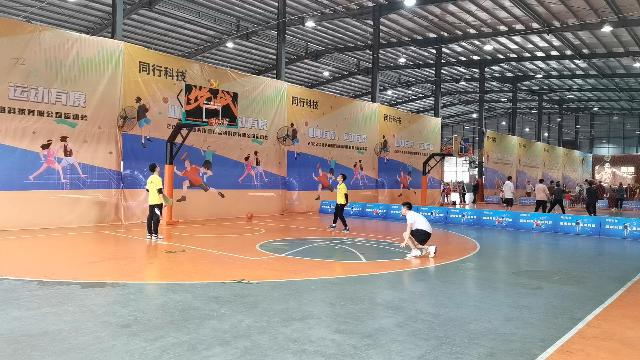ball: (209, 78, 219, 88), (245, 212, 252, 218)
